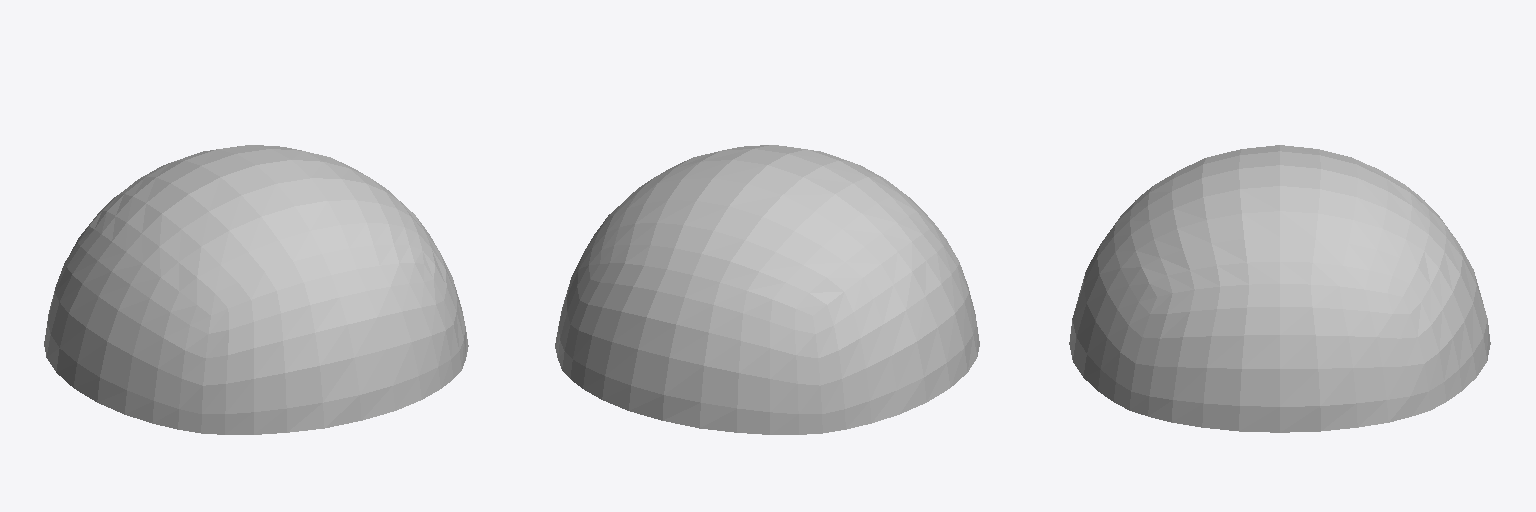
Rendered from Cone hexa low 1.OBJ.
3 views of the same model, side by side, from view 1: azimuth 30°, elevation 25°; view 2: azimuth 150°, elevation 25°; view 3: azimuth 270°, elevation 25° (orthographic).
Visible parts, largest first — view 1: Group30076; view 2: Group30076; view 3: Group30076.
Boxes of the visible parts, x1=… form: Group30076: x1=44, y1=145, x2=468, y2=434; Group30076: x1=555, y1=145, x2=979, y2=434; Group30076: x1=1069, y1=145, x2=1490, y2=432.
Bounding box in the file's own units: 584 × 278 × 584.